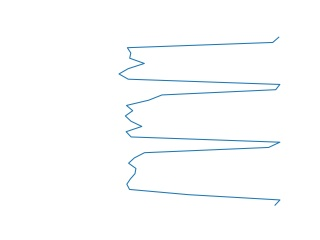majorRiverChannelBar: (117, 37, 286, 207)
